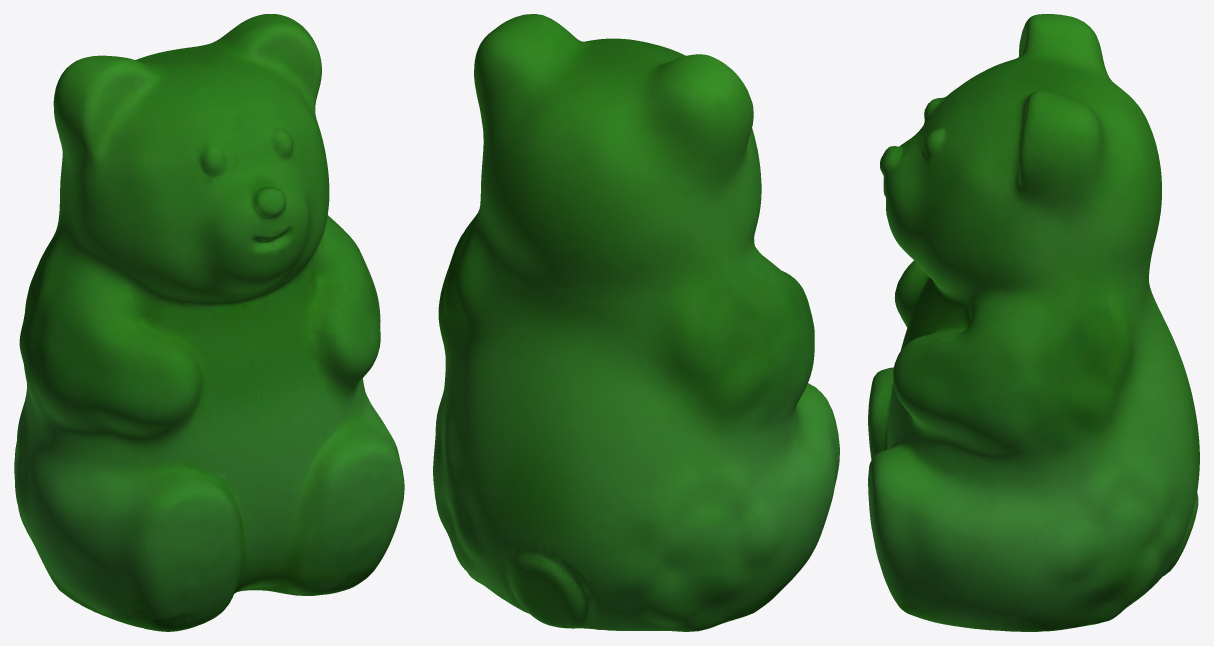
The picture shows the model from 3 angles, left to right: view 1: azimuth 30°, elevation 25°; view 2: azimuth 150°, elevation 25°; view 3: azimuth 270°, elevation 25°; orthographic projection. The views are drawn at different scales.
Parts seen in each view (by area): view 1: mesh_node; view 2: mesh_node; view 3: mesh_node.
Part boxes in pixels (left/top/right/bottom): mesh_node: left=14, top=14, right=404, bottom=631; mesh_node: left=433, top=14, right=839, bottom=631; mesh_node: left=868, top=14, right=1199, bottom=631.
Bounding box in the file's own units: 1.26 × 1.9 × 1.11.
Materials: 1 (1 with a texture image).
